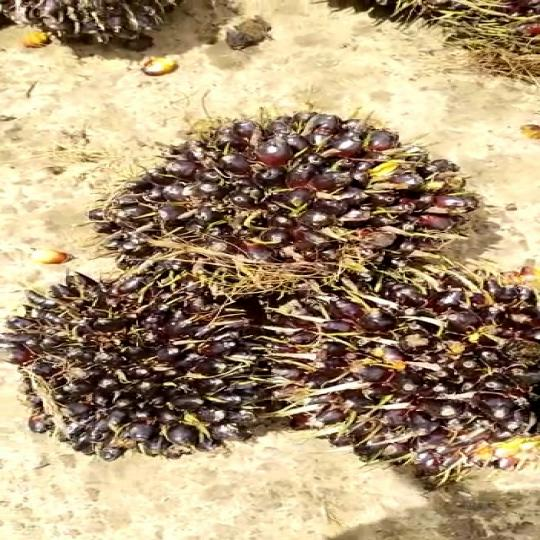mentah: (72, 105, 510, 282), (278, 261, 540, 498), (8, 272, 310, 468)
